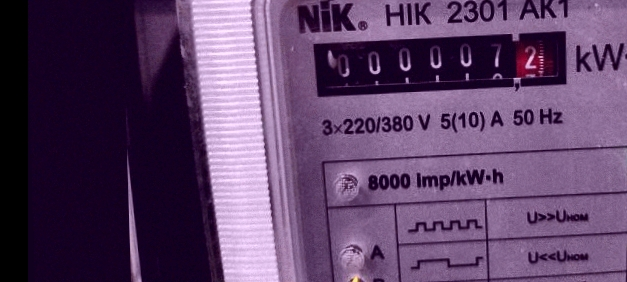0: (396, 45, 415, 73), (366, 48, 384, 77), (335, 51, 353, 79), (458, 40, 475, 69), (428, 42, 444, 70)
2: (523, 42, 540, 72)
7: (488, 40, 505, 70)
screen: (305, 22, 580, 103)
